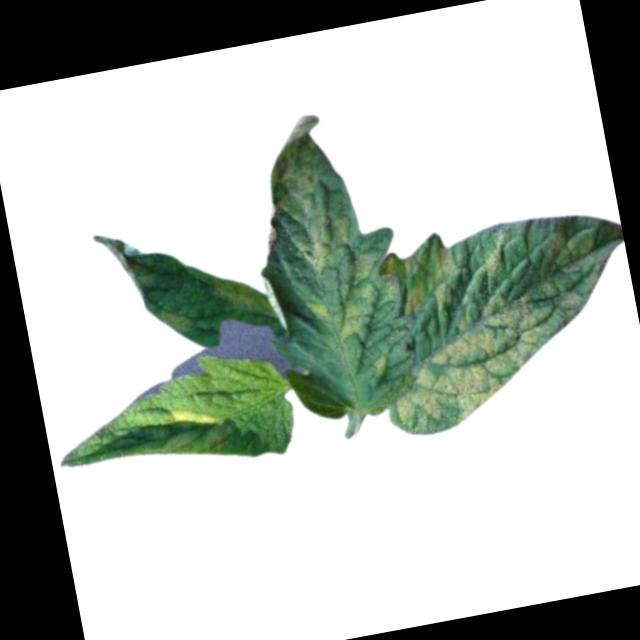Leaf_Mold: (359, 206, 640, 441), (255, 109, 360, 280), (307, 287, 371, 344), (170, 398, 222, 433), (149, 298, 192, 337)
